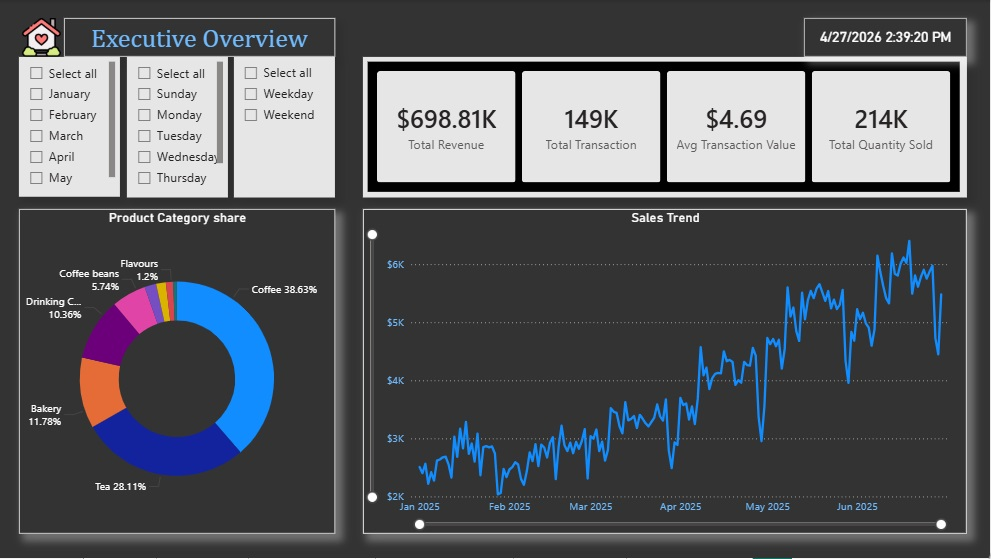

This screenshot's page, from the dashboard's own definition file:
{"tool":"powerbi","page":{"name":"Overview","canvas":[1280,720],"ordinal":1},"visuals":[{"type":"cardVisual","fields":{"Data":["Sales.Total Revenue","Sales.Total Transaction","Sales.Avg Transaction Value","Sales.Total Quantity Sold"]},"box":[471,73.5,779.4,180.6],"z":0},{"type":"lineChart","title":"Sales Trend","fields":{"Y":["Sales.Total Revenue"],"Category":["Sales.transaction_date"]},"box":[470.9,269.3,779,419],"z":1000},{"type":"donutChart","title":"Product Category share","fields":{"Category":["Category.product_category"],"Y":["Sales.Total Revenue"]},"box":[27.4,269.3,407.5,419],"z":2000},{"type":"shape","box":[85.1,23.6,349.5,49.7],"z":3000},{"type":"card","fields":{"Values":["Calender.Run Time"]},"box":[1039.7,23,210.2,50.4],"z":4000},{"type":"image","box":[27.5,23.4,57.8,49.5],"z":5000},{"type":"slicer","fields":{"Values":["Calender.Month Name"]},"box":[27.4,73.4,130,180],"z":6000},{"type":"slicer","fields":{"Values":["Calender.Day"]},"box":[166.3,73.3,129.6,180.7],"z":7000},{"type":"slicer","fields":{"Values":["Calender.Week type"]},"box":[305,73.3,129.6,180.7],"z":8000}]}

Visuals, with their boxes in screenshot pixels (x1, y1, x2, y2), scaled from the page's 1280x720 canvas onto the 991x559 screenshot:
cardVisual - Sales.Total Revenue x Sales.Total Transaction: [365,57,968,197]
"Sales Trend" lineChart: [365,209,968,534]
"Product Category share" donutChart: [21,209,337,534]
shape: [66,18,336,57]
card - Calender.Run Time: [805,18,968,57]
image: [21,18,66,57]
slicer - Calender.Month Name: [21,57,122,197]
slicer - Calender.Day: [129,57,229,197]
slicer - Calender.Week type: [236,57,336,197]
